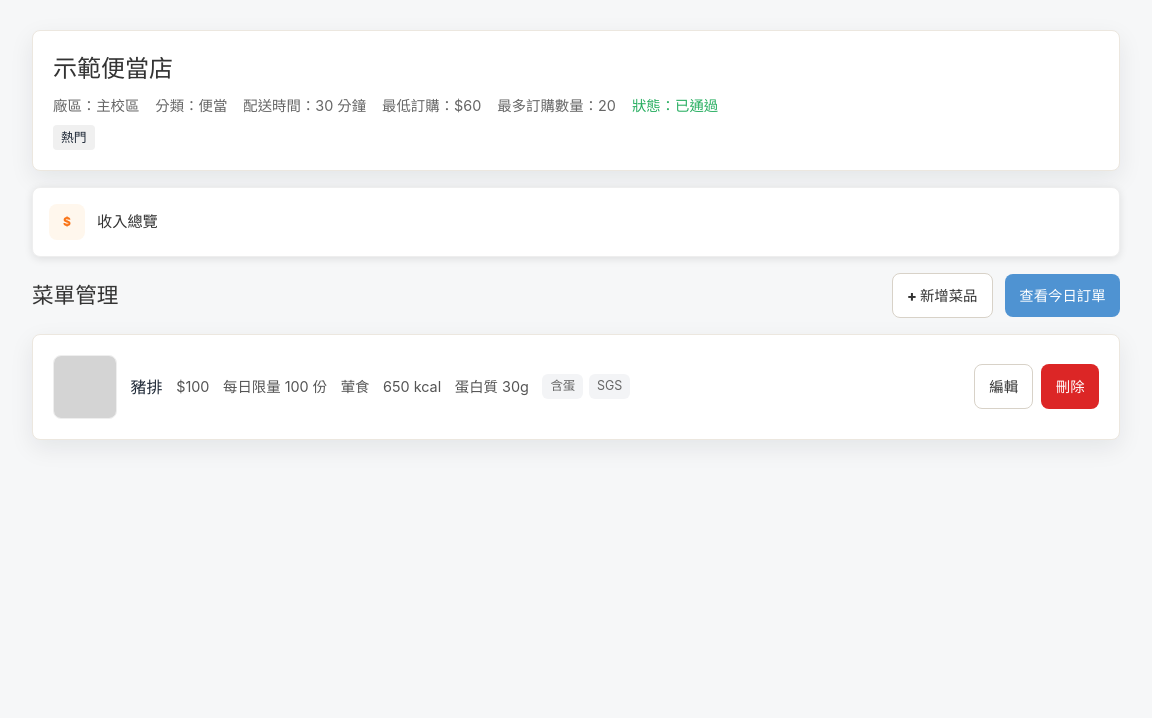
MerchantDashboardPage image upload › uses the expanded menu form layout when editing an item
The image size is (1152, 718).
Click the button "編輯": x=1004, y=387 x1=974 y1=364 x2=1033 y2=409
(page scrolled)
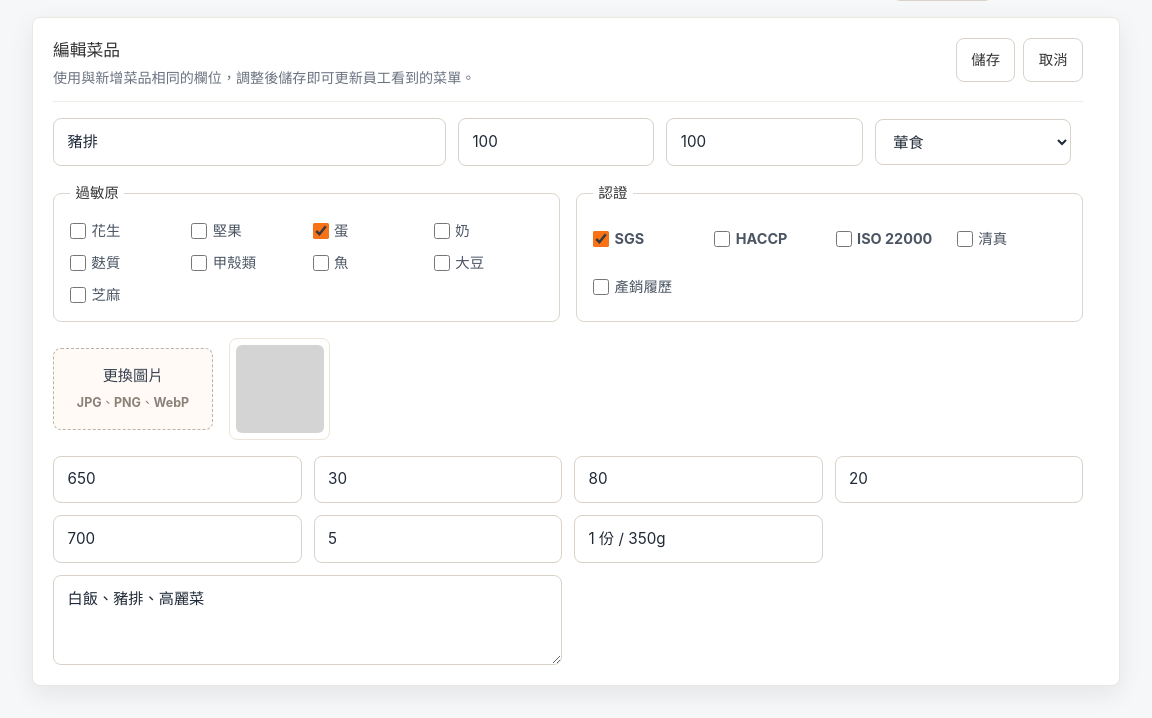
Result: the element with class "edit-form" is shown
Result: the element with class "menu-form-primary" is shown at x1=53 y1=118 x2=1083 y2=166
Result: the element with class "menu-meta-fields" is shown at x1=53 y1=182 x2=1083 y2=322
